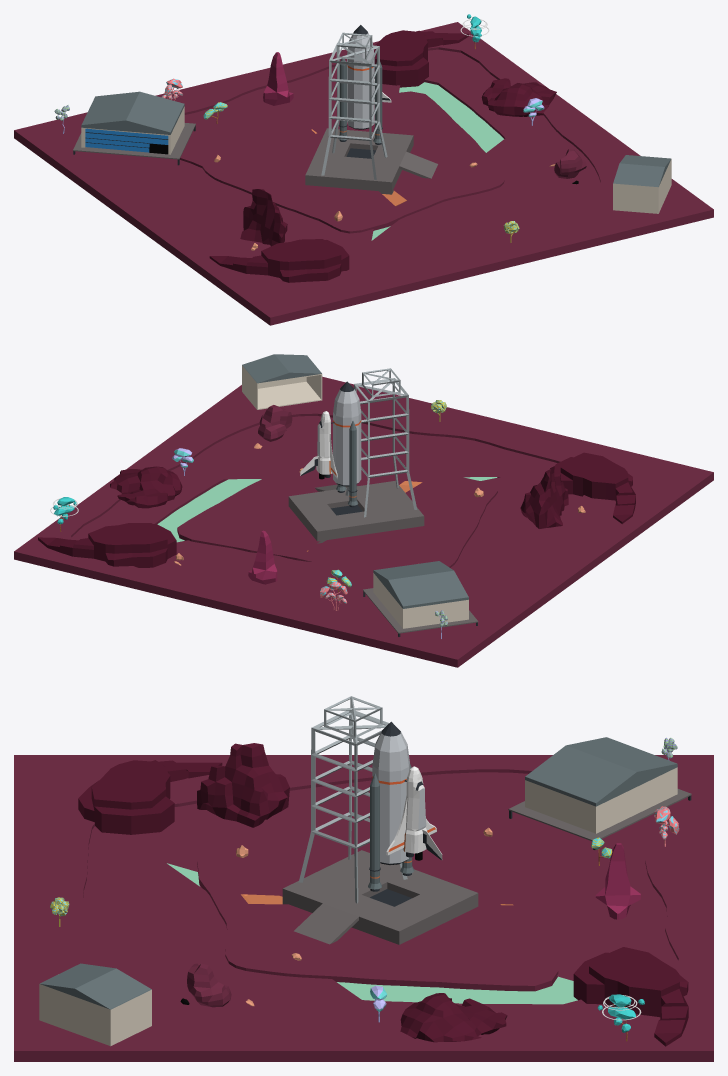
Rendered from Milestone_D7.fbx.
3 renders of one model, top to bottom at view 1: azimuth 30°, elevation 25°; view 2: azimuth 150°, elevation 25°; view 3: azimuth 270°, elevation 25°, orthographic. The views are drawn at different scales.
Visible parts, largest first — view 1: Plane.1758; view 2: Plane.1758; view 3: Plane.1758.
Boxes of the visible parts, left/top/right/bottom form: Plane.1758: left=14, top=14, right=713, bottom=325; Plane.1758: left=14, top=354, right=713, bottom=667; Plane.1758: left=14, top=696, right=713, bottom=1061.
Bounding box in the file's own units: 12593 × 3976 × 12593.
Materials: 8 (6 with a texture image).
